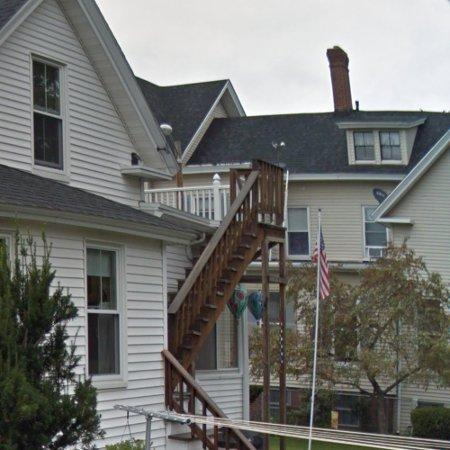chimneys: (327, 46, 351, 112)
stairs: (163, 161, 285, 418), (167, 424, 255, 450)
